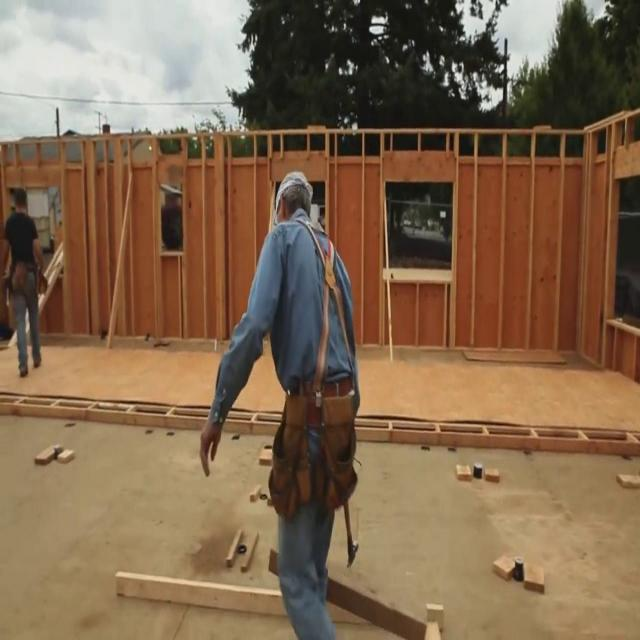hammer: (343, 498, 359, 569)
